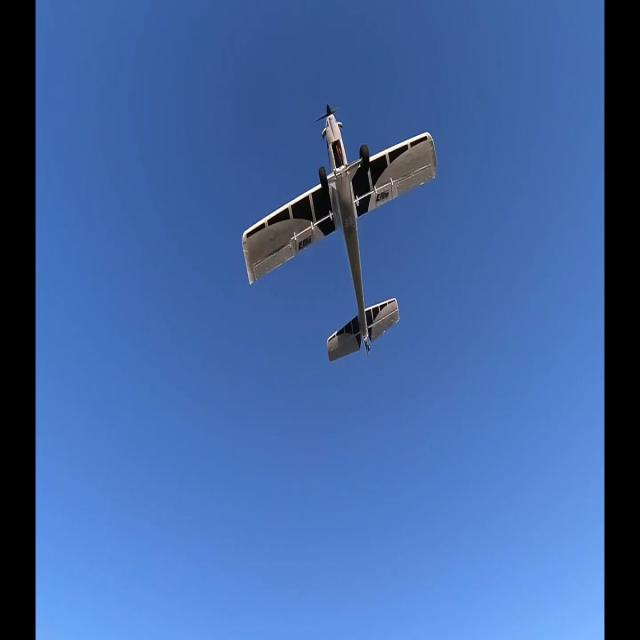iha: (241, 109, 438, 365)
